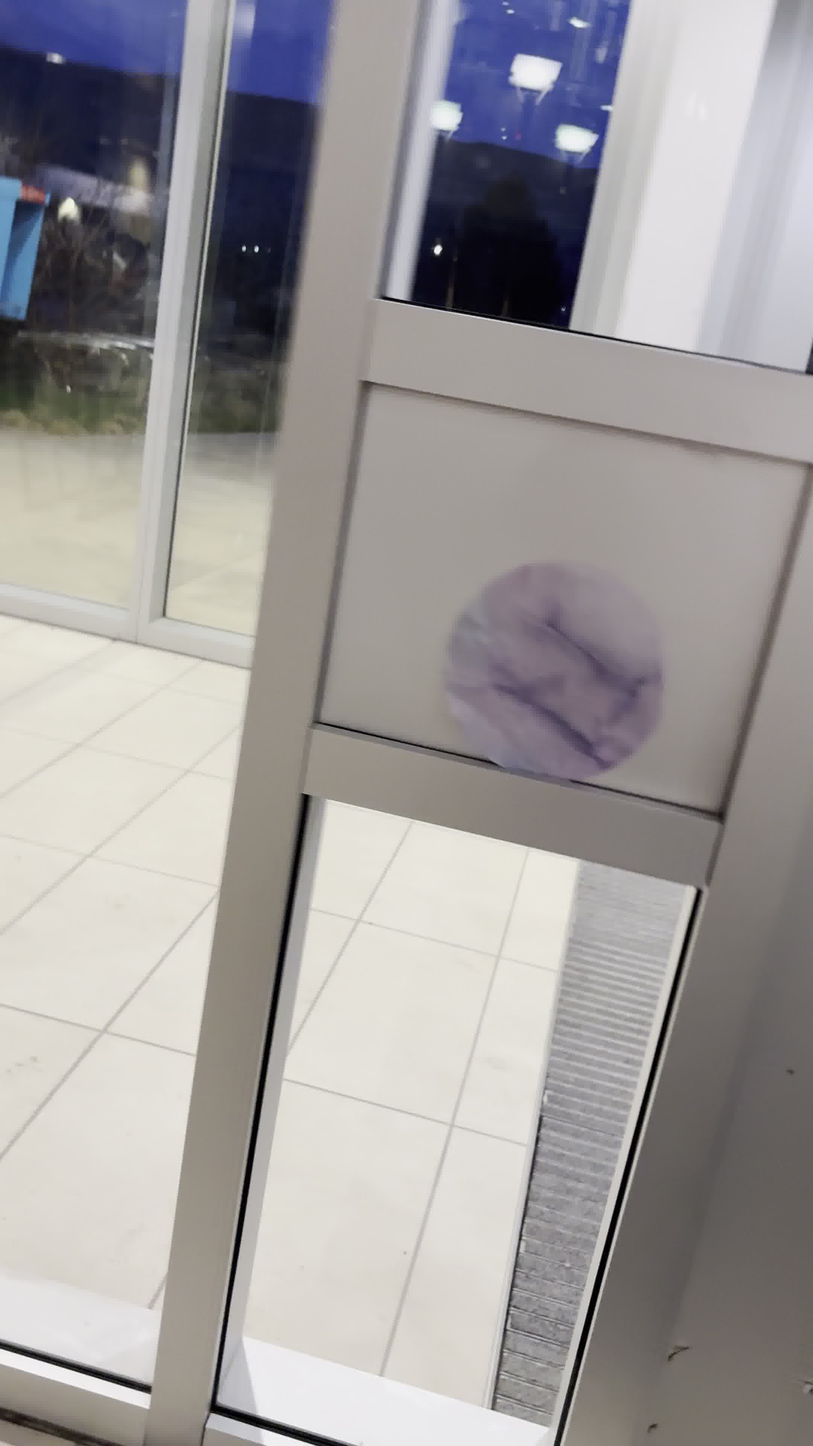Target: (438, 556, 668, 785)
